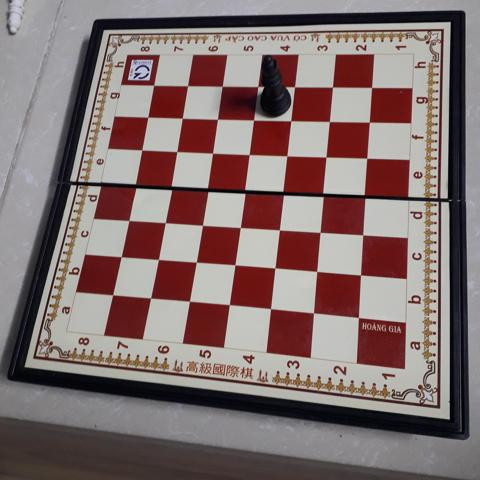xcorner: (233, 217, 248, 232), (252, 78, 267, 93), (150, 250, 164, 265), (269, 259, 283, 274), (121, 210, 135, 225), (201, 178, 215, 193), (277, 182, 292, 196), (317, 184, 332, 198), (206, 143, 220, 158), (281, 146, 296, 160), (321, 147, 335, 162), (142, 108, 156, 123), (326, 79, 341, 93), (105, 287, 119, 301), (143, 290, 157, 304), (182, 294, 196, 308), (223, 297, 237, 311), (264, 301, 278, 315), (307, 305, 321, 319), (351, 309, 365, 323), (113, 248, 127, 262), (189, 253, 203, 267), (228, 256, 242, 270), (311, 263, 325, 277), (354, 266, 368, 280), (157, 213, 171, 227), (195, 215, 209, 229), (273, 220, 287, 234), (314, 222, 328, 236), (356, 225, 370, 239), (128, 175, 142, 189), (164, 177, 178, 191), (239, 180, 253, 194), (359, 186, 373, 200), (135, 141, 149, 155), (170, 142, 184, 156), (243, 145, 257, 159), (361, 149, 375, 163), (176, 109, 190, 123), (212, 110, 226, 124), (248, 111, 262, 125), (285, 112, 299, 126), (324, 113, 338, 127), (363, 114, 377, 128), (148, 77, 162, 91), (182, 78, 196, 92), (217, 78, 231, 92), (289, 79, 303, 93), (365, 80, 379, 94)
